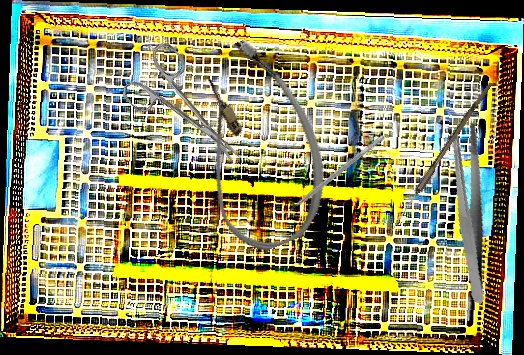Cannula: (163, 28, 349, 262)
Dressing Forceps: (423, 118, 517, 306)
Iris Scissors: (114, 38, 261, 188)
Spatula Surgical: (278, 129, 386, 220)
Surgical Spoon: (388, 79, 493, 235)
